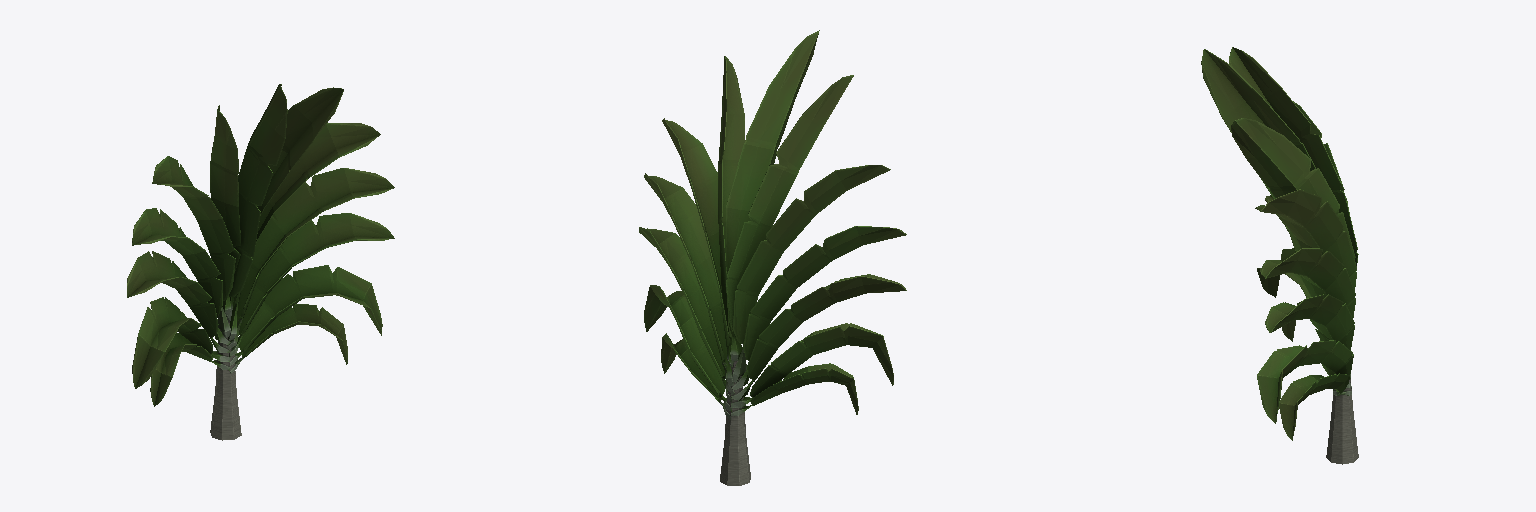
The picture shows the model from 3 angles: view 1: azimuth 30°, elevation 25°; view 2: azimuth 150°, elevation 25°; view 3: azimuth 270°, elevation 25°; orthographic projection.
Visible parts, largest first — view 1: TrianglePalmTree_Mesh; view 2: TrianglePalmTree_Mesh; view 3: TrianglePalmTree_Mesh.
Part boxes in pixels (left/top/right/bottom): TrianglePalmTree_Mesh: left=127, top=84, right=394, bottom=440; TrianglePalmTree_Mesh: left=639, top=30, right=906, bottom=485; TrianglePalmTree_Mesh: left=1201, top=47, right=1358, bottom=464.
Size of the model in its own units: 11.21 by 16.06 by 5.71.
Materials: 1 (1 with a texture image).